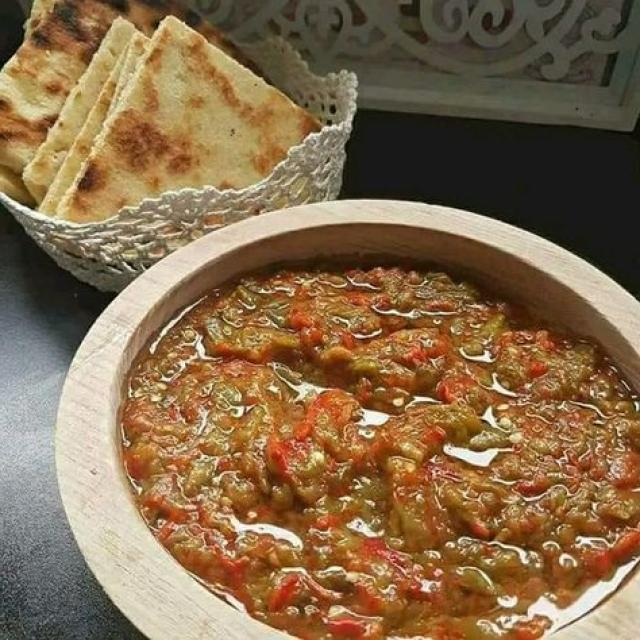Salade mechweya: (65, 228, 640, 639)
